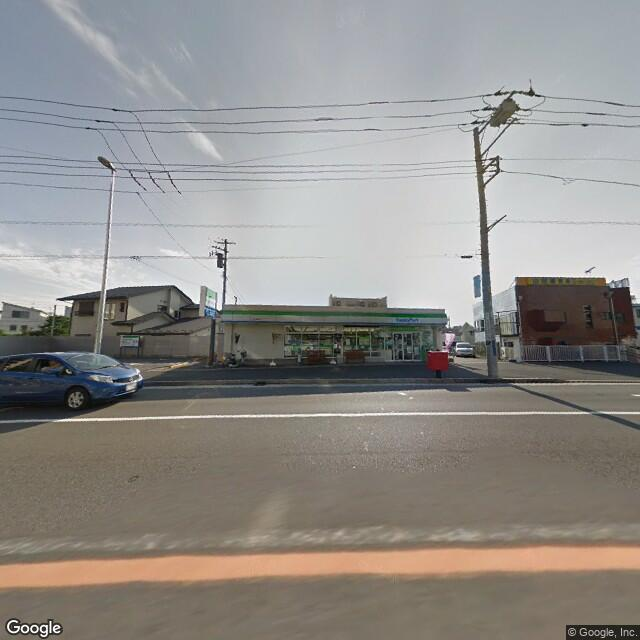family_mart: (220, 305, 450, 329), (200, 286, 220, 317)
